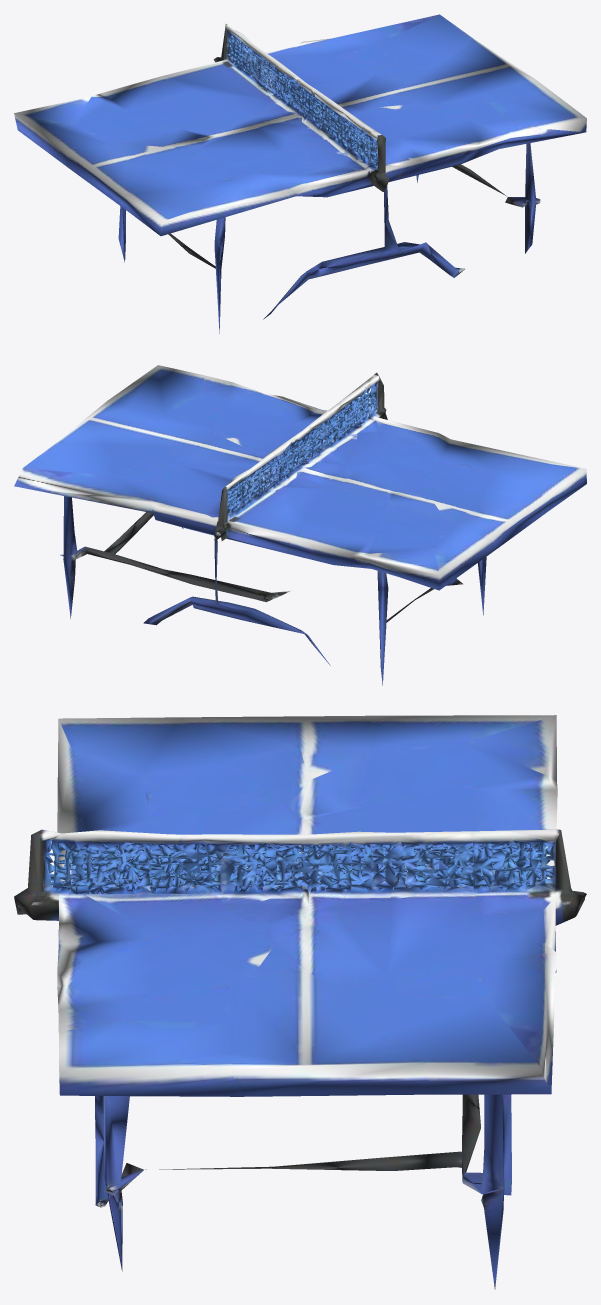
The model's file is pingpong-table.glb.
3 views of the same model, one above another, from view 1: azimuth 30°, elevation 25°; view 2: azimuth 150°, elevation 25°; view 3: azimuth 270°, elevation 25° (orthographic). The views are drawn at different scales.
Visible parts, largest first — view 1: tripo_node_30c13e60-ad91-4e48-91fc-d808efbb98bd; view 2: tripo_node_30c13e60-ad91-4e48-91fc-d808efbb98bd; view 3: tripo_node_30c13e60-ad91-4e48-91fc-d808efbb98bd.
Boxes of the visible parts, x1,y1,x2,y2 form: tripo_node_30c13e60-ad91-4e48-91fc-d808efbb98bd: (14, 14, 586, 333); tripo_node_30c13e60-ad91-4e48-91fc-d808efbb98bd: (14, 365, 586, 685); tripo_node_30c13e60-ad91-4e48-91fc-d808efbb98bd: (14, 715, 586, 1289).
Bounding box in the file's own units: 0.9987 × 0.4219 × 0.6838.
Materials: 1 (1 with a texture image).
